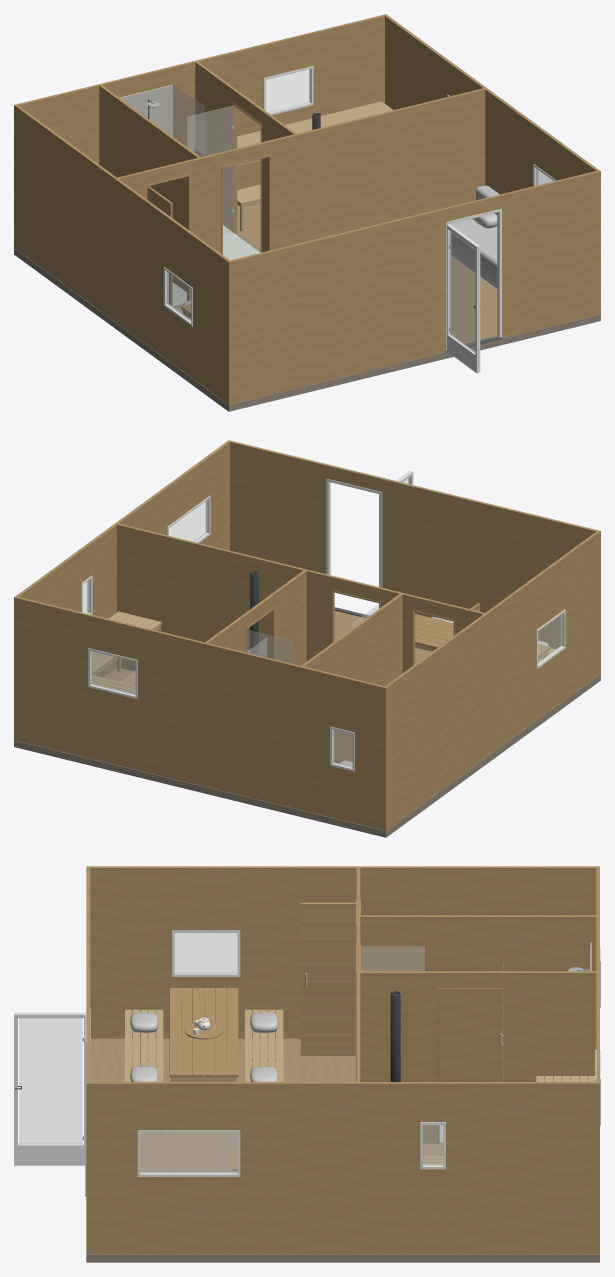
The picture shows the model from 3 angles, top to bottom: view 1: azimuth 30°, elevation 25°; view 2: azimuth 150°, elevation 25°; view 3: azimuth 270°, elevation 25°; orthographic projection. The views are drawn at different scales.
Visible parts, largest first — view 1: ПГ1 wall, ПГ3 wall, ПГ7 wall, ПГ2 wall, ПГ4 wall, DachaPar_22, ПГ5 wall, ПГ6 wall, Hinge_DP08-D04, Shower tray and wall mounted column, Hinge_DP08-D01, Sofa (+7 smaller); view 2: ПГ2 wall, ПГ1 wall, ПГ3 wall, ПГ7 wall, ПГ4 wall, ПГ5 wall, DachaPar_22, ПГ6 wall, Window p8_i2473, Window p8_i2476, Window p8_i2477, Door entry p8_i2409 (+5 smaller); view 3: ПГ4 wall, ПГ3 wall, ПГ5 wall, ПГ6 wall, DachaPar_22, Hinge_DP08-D04, Hinge_DP08-D03, С1 table, Window p8_i2476, Window p8_i2477, Л1 bench, Л2 bench (+7 smaller).
Part boxes in pixels (x1=…): ПГ1 wall: x1=227, y1=170, x2=600, y2=404; ПГ3 wall: x1=15, y1=105, x2=229, y2=403; ПГ7 wall: x1=117, y1=88, x2=485, y2=299; ПГ2 wall: x1=14, y1=14, x2=387, y2=248; ПГ4 wall: x1=385, y1=15, x2=598, y2=194; DachaPar_22: x1=14, y1=203, x2=600, y2=411; ПГ5 wall: x1=99, y1=85, x2=200, y2=291; ПГ6 wall: x1=195, y1=61, x2=296, y2=252; Hinge_DP08-D04: x1=447, y1=224, x2=480, y2=373; Shower tray and wall mounted column: x1=120, y1=83, x2=204, y2=153; Hinge_DP08-D01: x1=187, y1=105, x2=234, y2=235; Sofa: x1=450, y1=185, x2=499, y2=289; ПГ2 wall: x1=14, y1=596, x2=387, y2=830; ПГ1 wall: x1=227, y1=440, x2=600, y2=674; ПГ3 wall: x1=385, y1=531, x2=599, y2=829; ПГ7 wall: x1=117, y1=523, x2=484, y2=672; ПГ4 wall: x1=16, y1=441, x2=229, y2=677; ПГ5 wall: x1=301, y1=594, x2=402, y2=763; DachaPar_22: x1=14, y1=610, x2=600, y2=837; ПГ6 wall: x1=205, y1=570, x2=306, y2=665; Window p8_i2473: x1=88, y1=648, x2=137, y2=699; Window p8_i2476: x1=167, y1=495, x2=210, y2=542; Window p8_i2477: x1=536, y1=609, x2=565, y2=668; Door entry p8_i2409: x1=326, y1=478, x2=382, y2=617; ПГ4 wall: x1=90, y1=1082, x2=596, y2=1254; ПГ3 wall: x1=90, y1=866, x2=596, y2=1038; ПГ5 wall: x1=360, y1=915, x2=596, y2=1081; ПГ6 wall: x1=360, y1=971, x2=596, y2=1143; DachaPar_22: x1=86, y1=1038, x2=599, y2=1262; Hinge_DP08-D04: x1=14, y1=1012, x2=85, y2=1165; Hinge_DP08-D03: x1=300, y1=902, x2=355, y2=1055; С1 table: x1=169, y1=988, x2=238, y2=1077; Window p8_i2476: x1=137, y1=1130, x2=240, y2=1176; Window p8_i2477: x1=172, y1=930, x2=240, y2=976; Л1 bench: x1=244, y1=1009, x2=283, y2=1081; Л2 bench: x1=125, y1=1009, x2=163, y2=1134.
Size of the model in its own units: 6.02 by 2.31 by 6.85.
38 materials, 16 textured.
